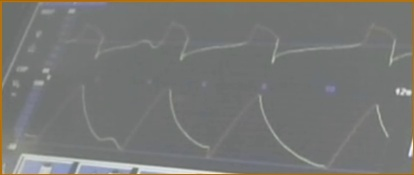Ineffective_effort Flow: (63, 17, 409, 70)
Ineffective_effort Volume: (25, 83, 391, 170)
